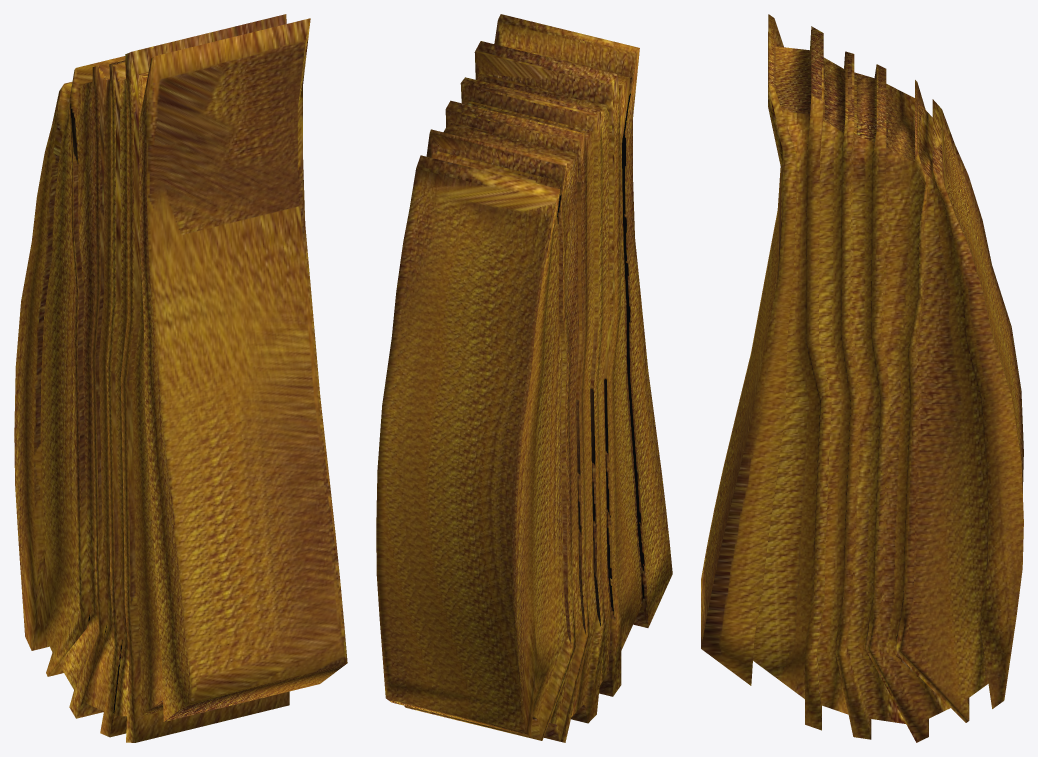
File: ears.fbx
The picture shows the model from 3 angles, left to right: view 1: azimuth 30°, elevation 25°; view 2: azimuth 150°, elevation 25°; view 3: azimuth 270°, elevation 25°; orthographic projection. The views are drawn at different scales.
Visible parts, largest first — view 1: Cube.002; view 2: Cube.002; view 3: Cube.002.
Part boxes in pixels (<box>): Cube.002: <box>14,14,347,742</box>; Cube.002: <box>376,14,672,742</box>; Cube.002: <box>701,14,1023,742</box>.
Bounding box in the file's own units: 76.36 × 336 × 149.
Materials: 1 (1 with a texture image).
